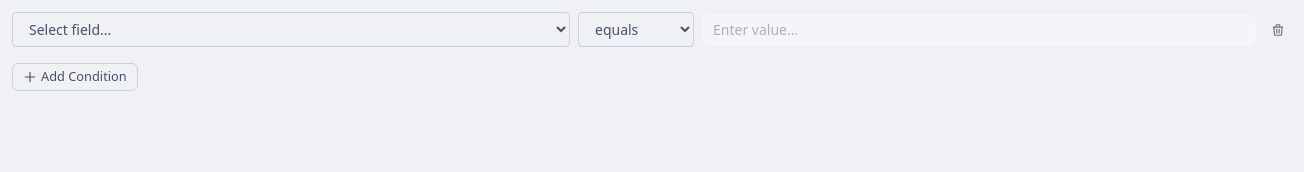
QueryBuilder › removing conditions › removes condition when clicking delete button
Add second condition
Click the button "Add Condition": click(75, 77) [12, 63, 138, 91]
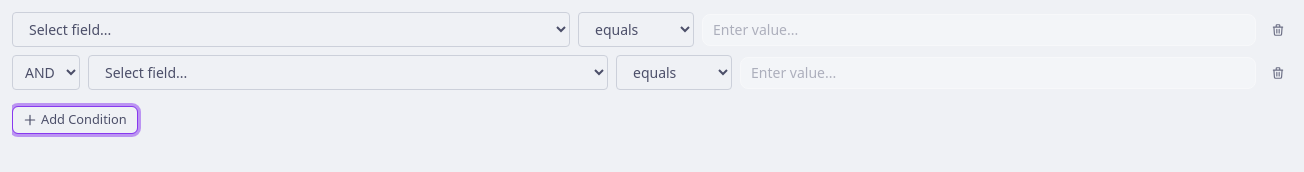
Now the number of buttons named "remove condition" is 2
Remove first condition
Click the 1st button named "remove condition": click(1278, 30) [1264, 16, 1292, 44]
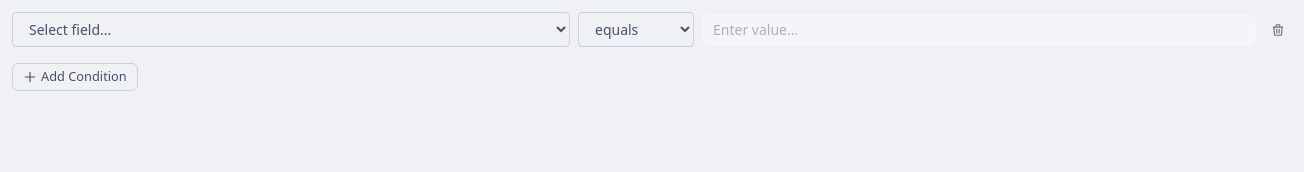
Now the number of buttons named "remove condition" is 1, box [1264, 16, 1292, 44]
